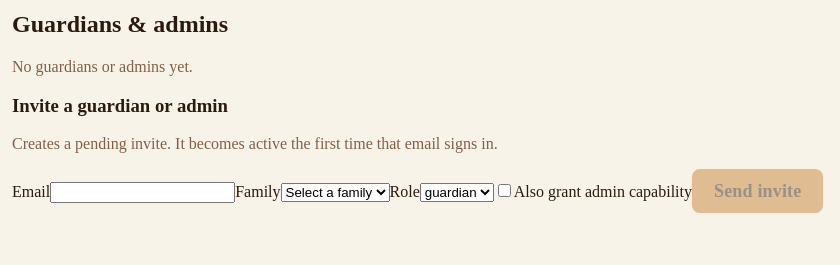
Test: UsersTab › shows a forbidden message when the invite fails with 403
This screenshot has width=840, height=265.
Type "new@example.com" into the field labelled "Email" at (143, 192), box [50,182,235,202]
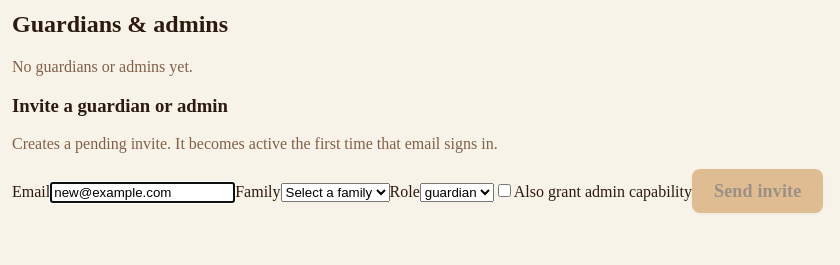
Select "Family A" in the dropdown labelled "Family" at (335, 192), box [281,182,390,202]
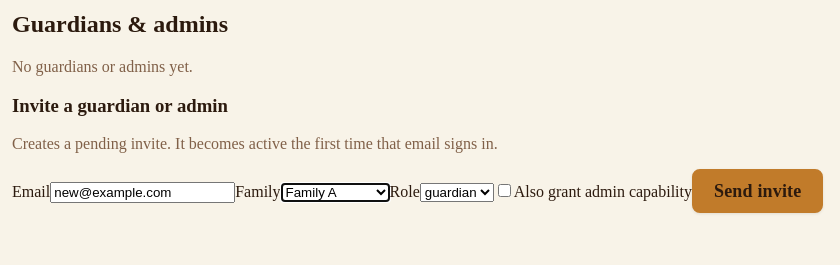
Click the button "Send invite" at (758, 191), box [692,169,824,213]
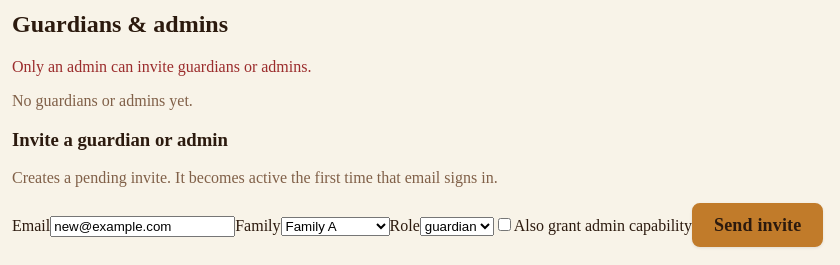
Now the message shows "Only an admin can invite", box [12,58,312,75]
